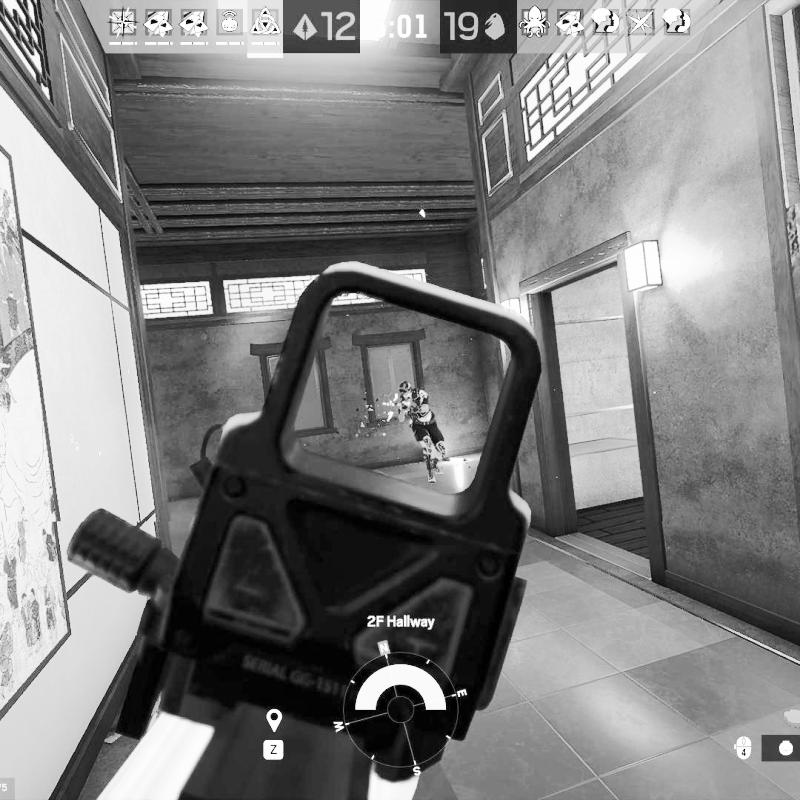Character: (390, 377, 451, 484)
Head: (400, 380, 415, 396)
